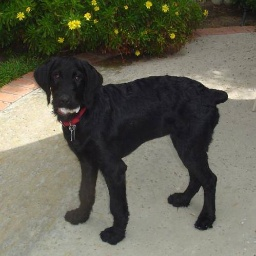dog: (33, 52, 237, 240)
